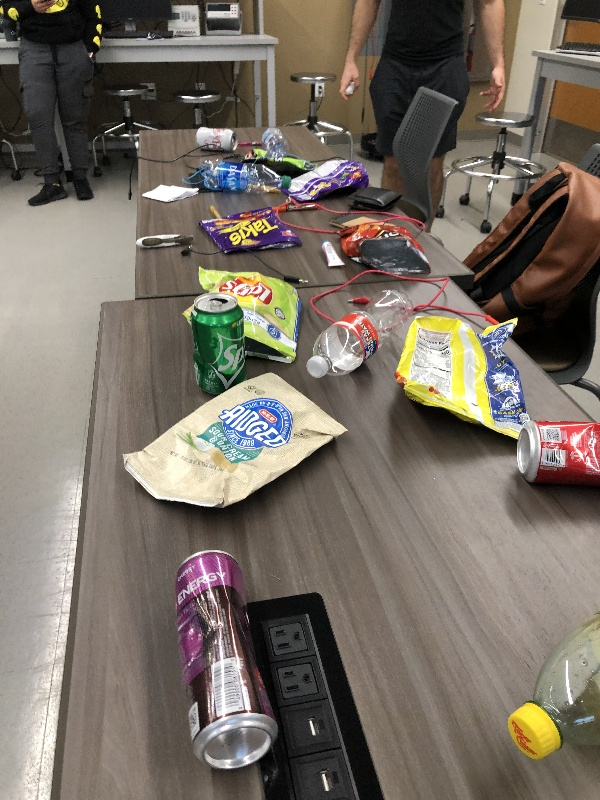bag: (118, 368, 354, 516), (391, 312, 532, 443), (182, 262, 310, 368), (196, 205, 305, 258), (338, 222, 438, 278), (281, 155, 372, 206), (241, 145, 319, 172)
bottle: (506, 597, 600, 766), (305, 289, 418, 380), (200, 156, 293, 199), (261, 125, 291, 159)
can: (174, 545, 284, 774), (189, 291, 251, 401), (514, 416, 600, 487), (191, 125, 239, 154)
